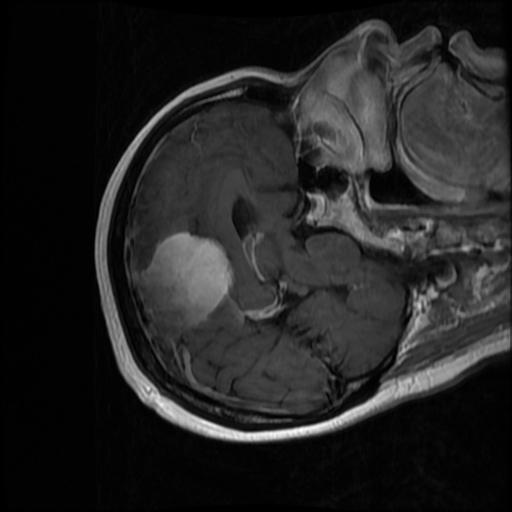meningioma: (135, 232, 234, 338)
